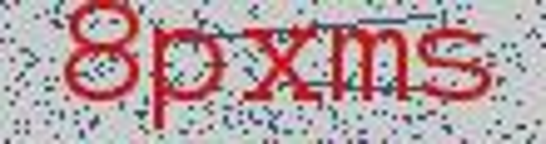8: (60, 1, 144, 118)
m: (326, 14, 411, 117)
p: (146, 19, 225, 144)
s: (412, 17, 499, 113)
x: (235, 14, 323, 118)
